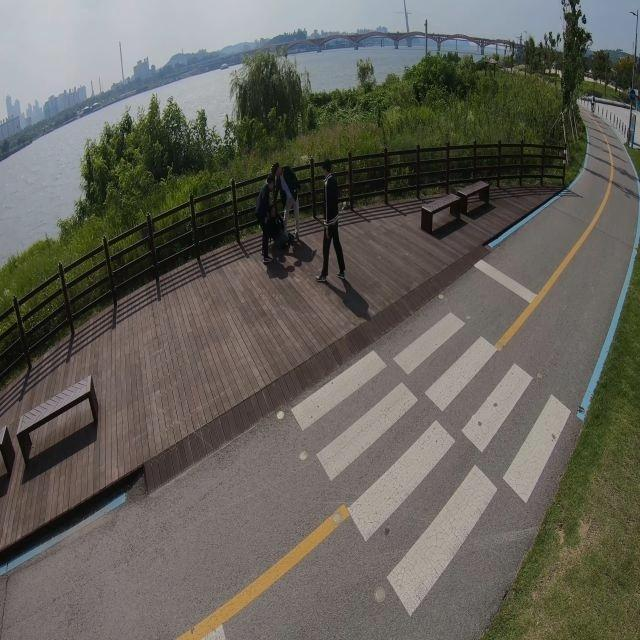fight: (256, 161, 301, 262)
non-fight: (316, 161, 346, 284)
